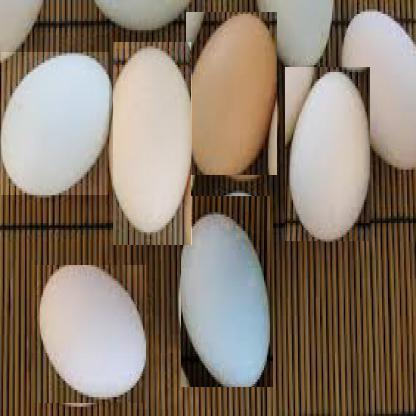egg: (181, 196, 274, 388), (114, 42, 194, 246), (34, 265, 147, 404), (1, 52, 110, 196), (186, 12, 278, 176), (285, 67, 371, 242)
